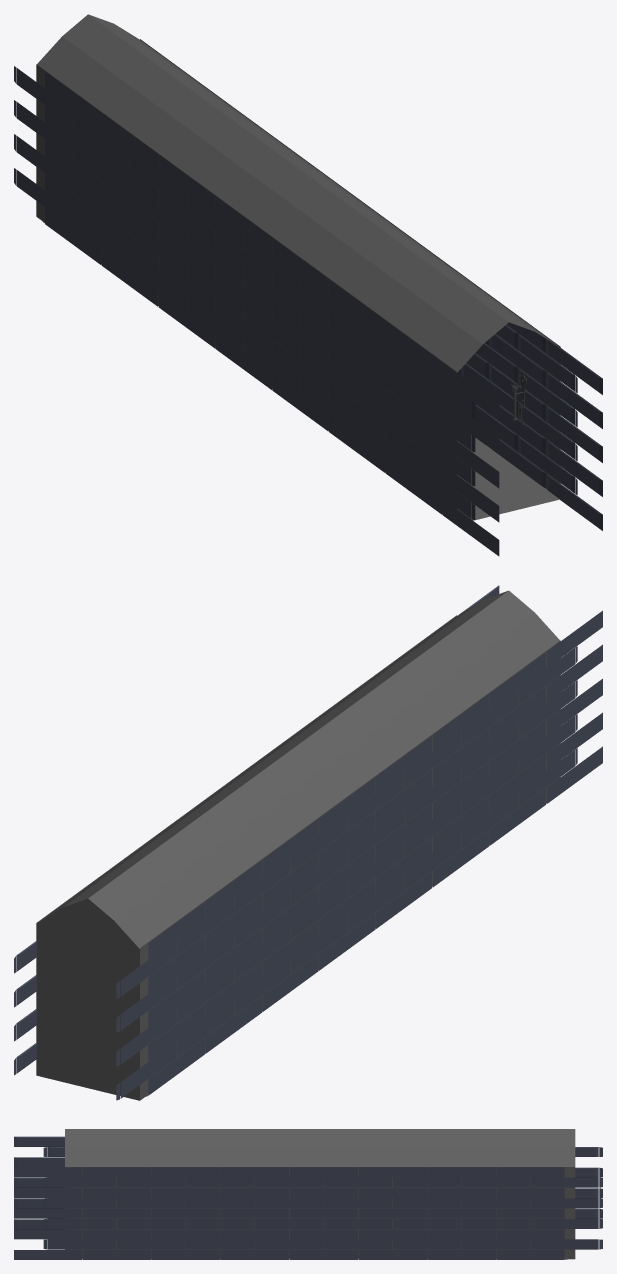
File: hallway.glb
3 views of the same model, one above another, from view 1: azimuth 30°, elevation 25°; view 2: azimuth 150°, elevation 25°; view 3: azimuth 270°, elevation 25° (orthographic). The views are drawn at different scales.
Visible parts, largest first — view 1: Hallway, Bricks_B, Bricks_A; view 2: Hallway, Bricks_B, Bricks_A; view 3: Bricks_B, Bricks_A, Hallway.
Boxes of the visible parts, x1,y1,x2,y2 form: Hallway: (36, 14, 560, 520); Bricks_B: (43, 72, 602, 556); Bricks_A: (14, 66, 577, 520); Hallway: (36, 590, 560, 1100); Bricks_B: (146, 585, 602, 1096); Bricks_A: (14, 646, 577, 1100); Bricks_B: (14, 1136, 567, 1259); Bricks_A: (43, 1147, 602, 1249); Hallway: (65, 1129, 575, 1259).
Bounding box in the file's own units: 4.27 × 7.5 × 34.64.
